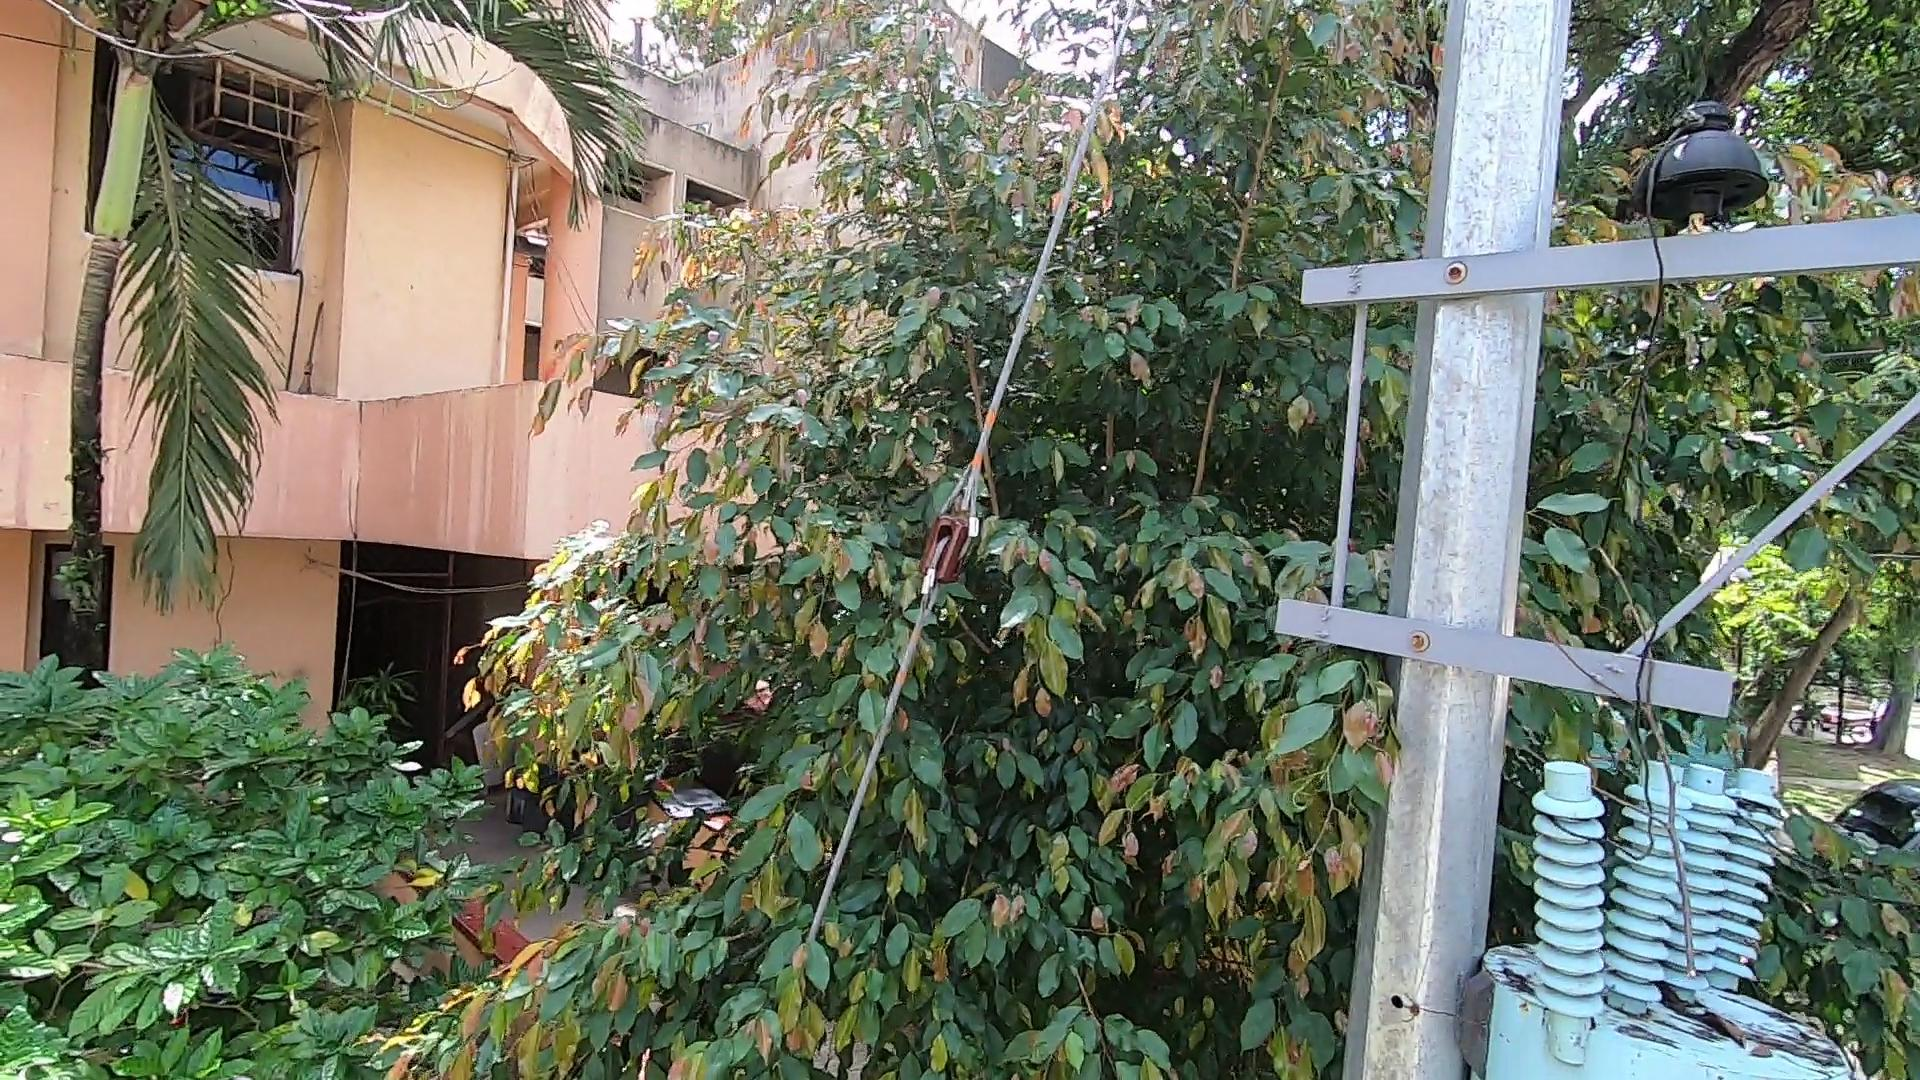leaf: (1656, 971, 1749, 1055)
tree branch: (1545, 531, 1727, 982)
